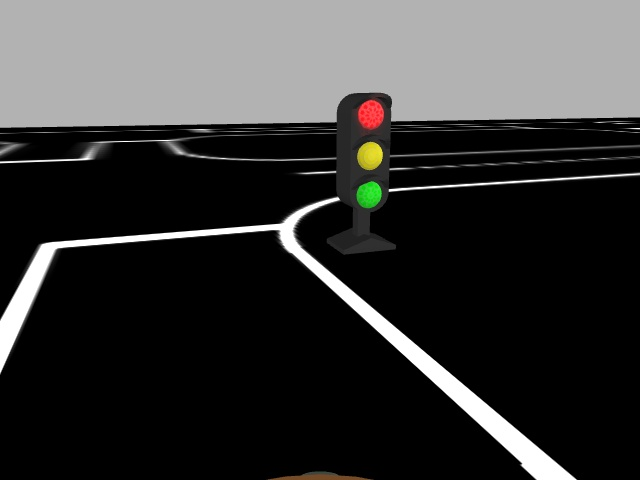red_light: (334, 91, 392, 216)
